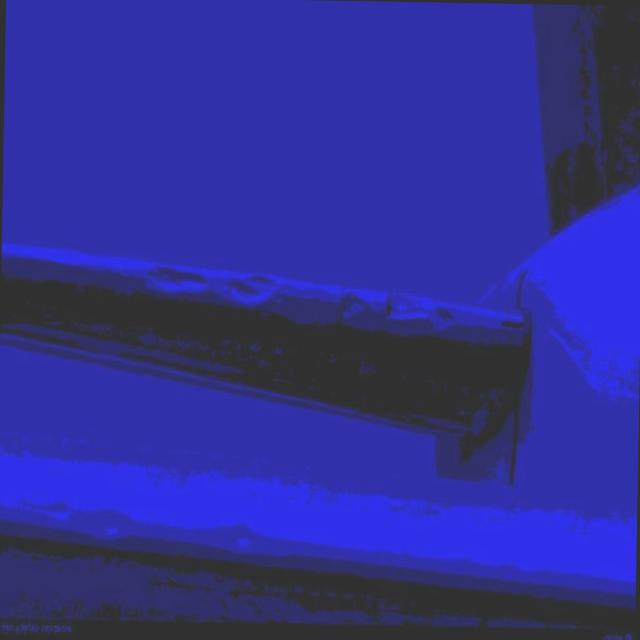dent: (139, 258, 283, 308), (386, 297, 452, 334), (338, 287, 371, 327)
